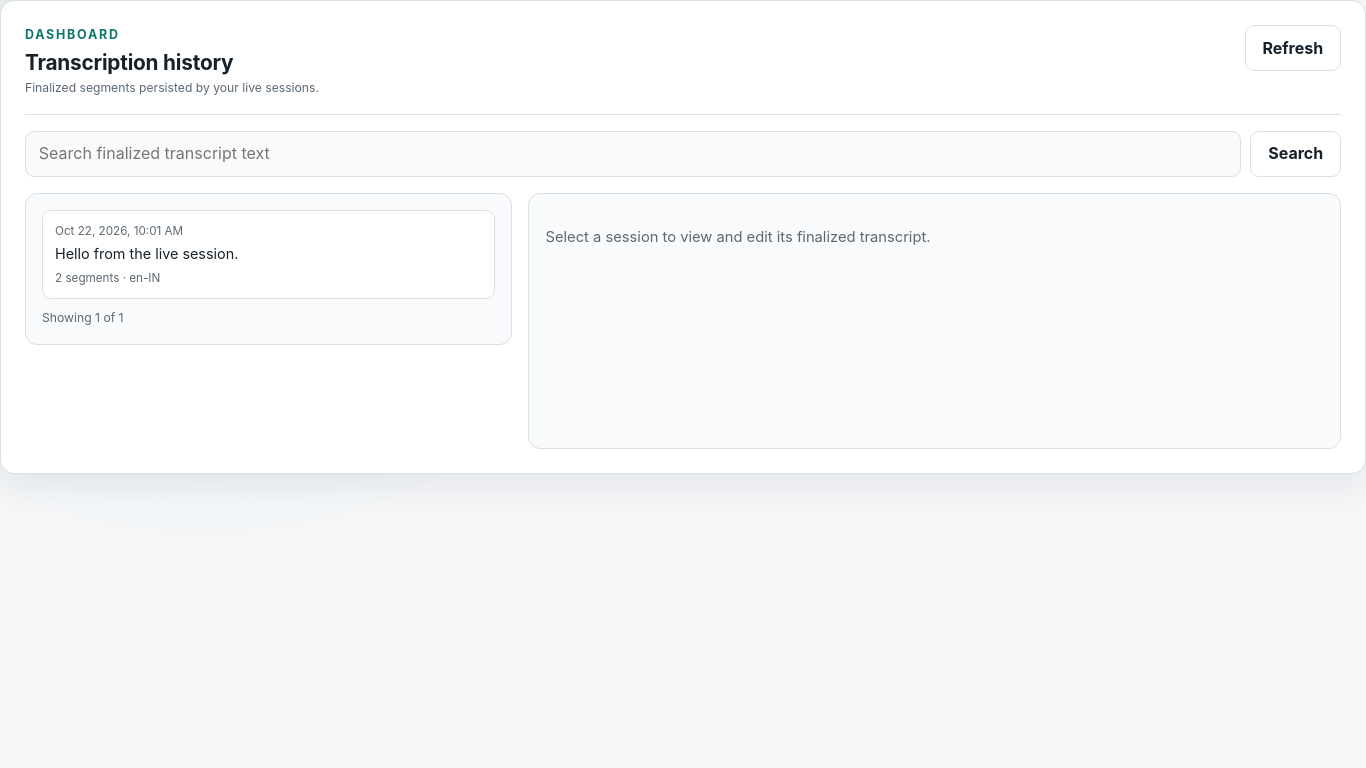
HistoryDashboard › deletes a session after in-app confirmation
What coordinates should you click on to do the following:
click the button "Hello from the live session"
I would click on:
 (119, 231)
Its box is 42,210 -> 496,299.
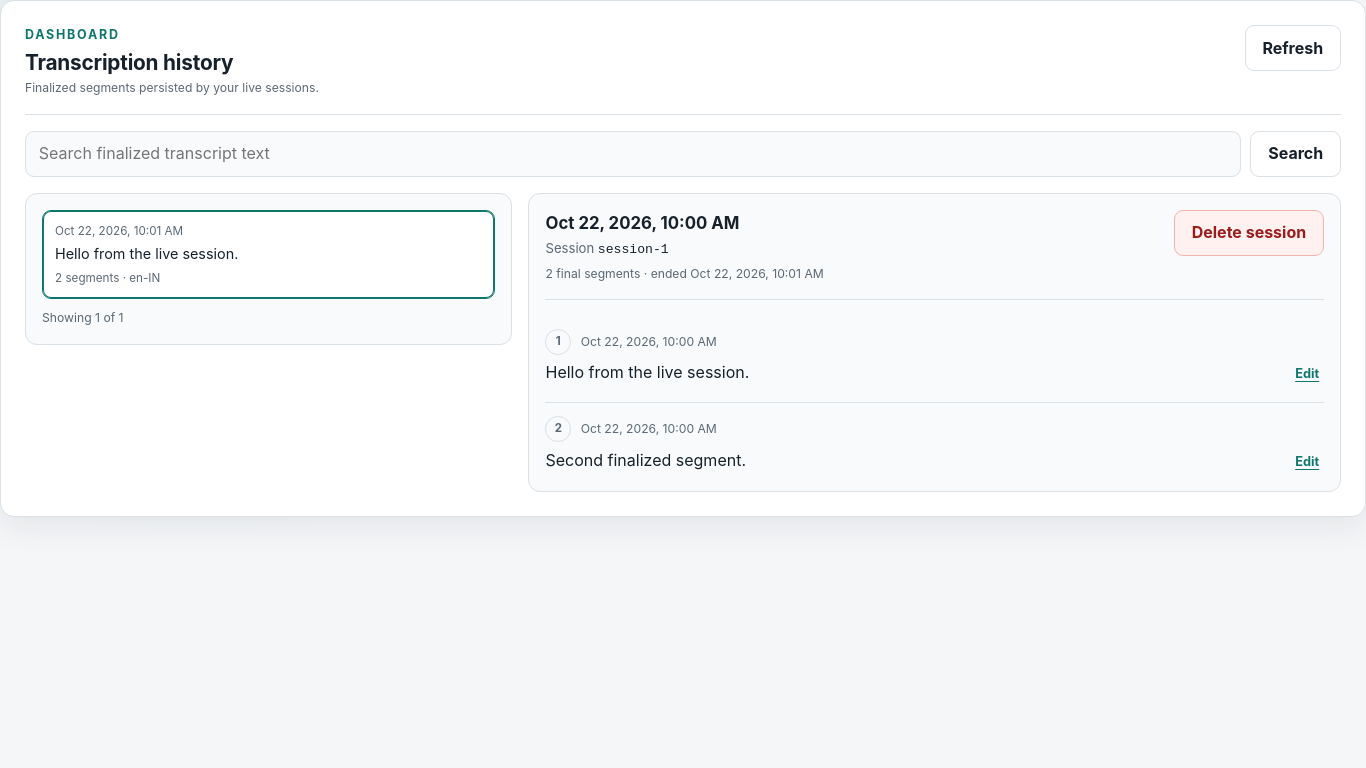
What coordinates should you click on to do the following:
click the button "Delete session"
I would click on:
 (1249, 233)
Its box is 1174,210 -> 1324,256.
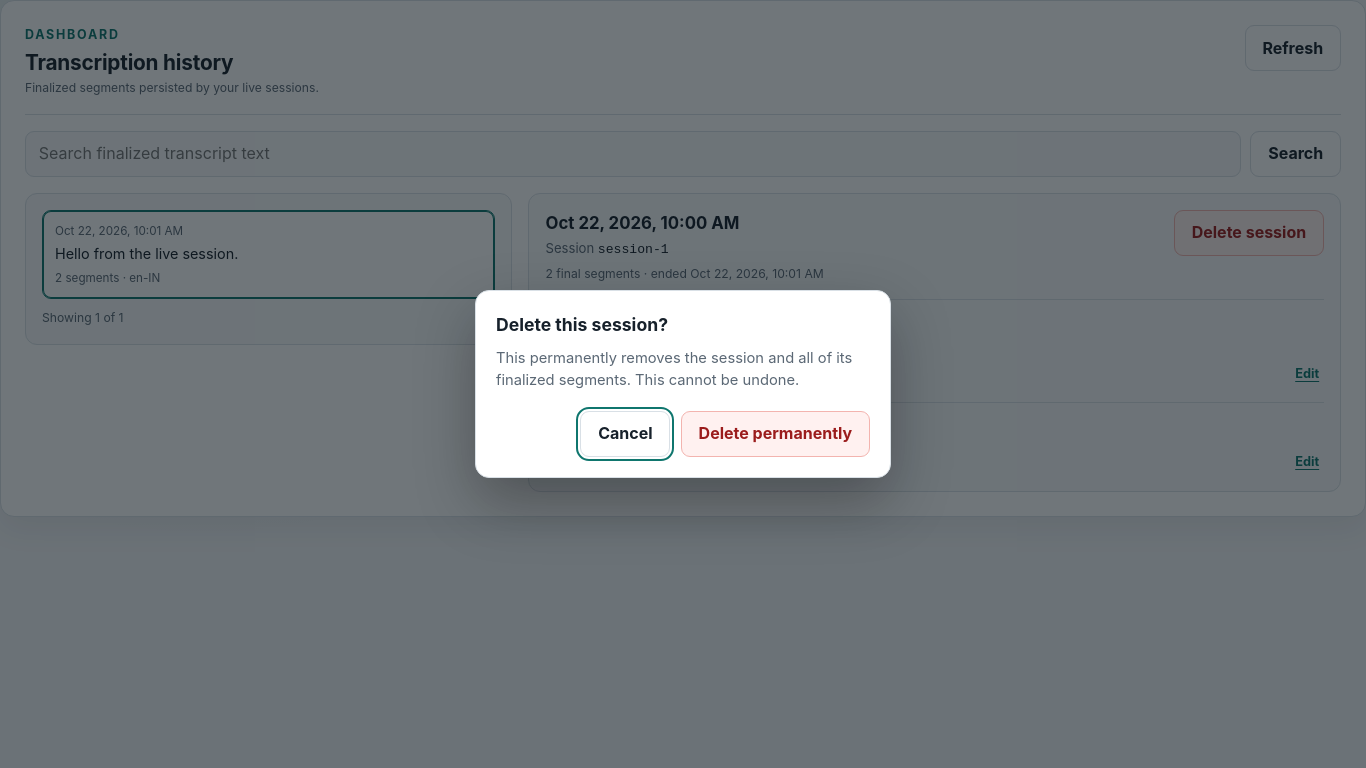
What coordinates should you click on to do the following:
click the button "Delete permanently"
I would click on:
 (775, 434)
Its box is 681,411 -> 870,457.
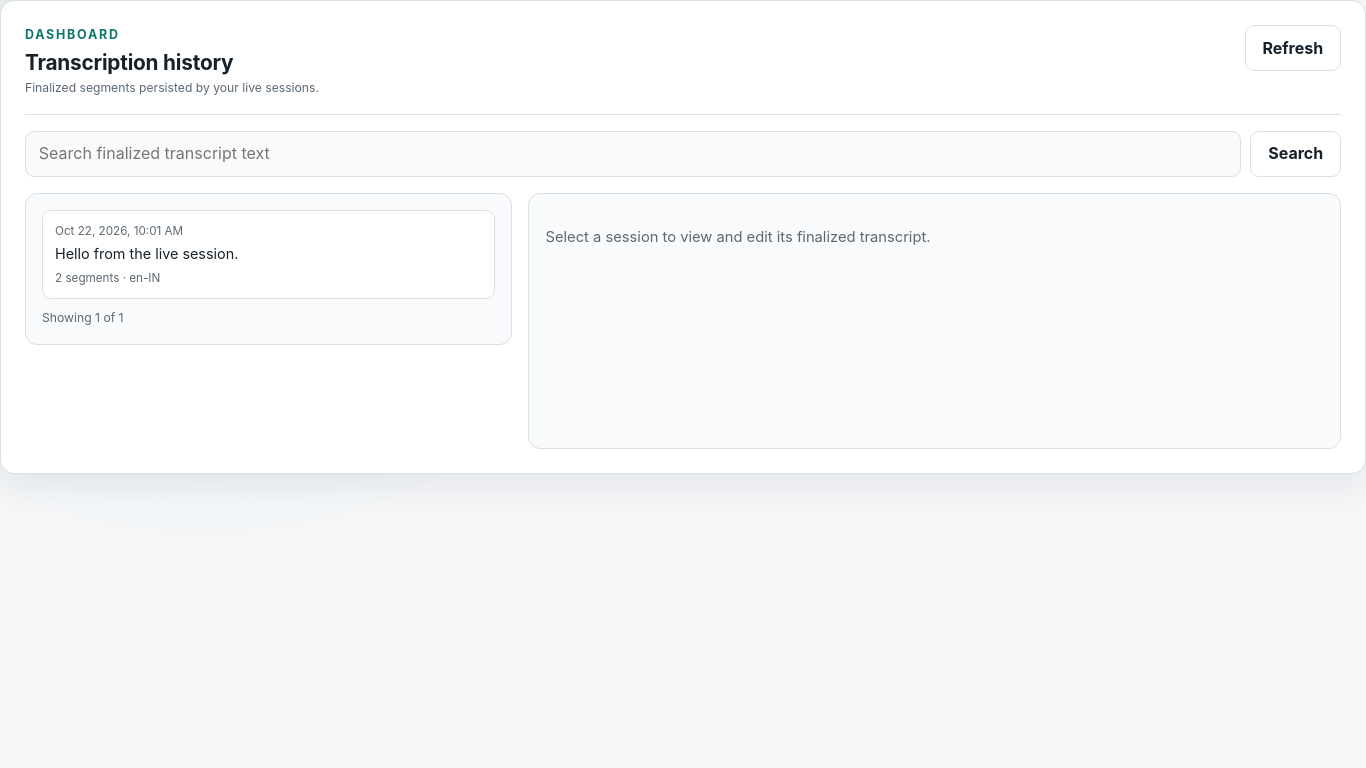
Expected: the dialog is gone
Expected: the text "Select a session to view and edit its finalized transcript." is shown, 546,228 -> 930,246
